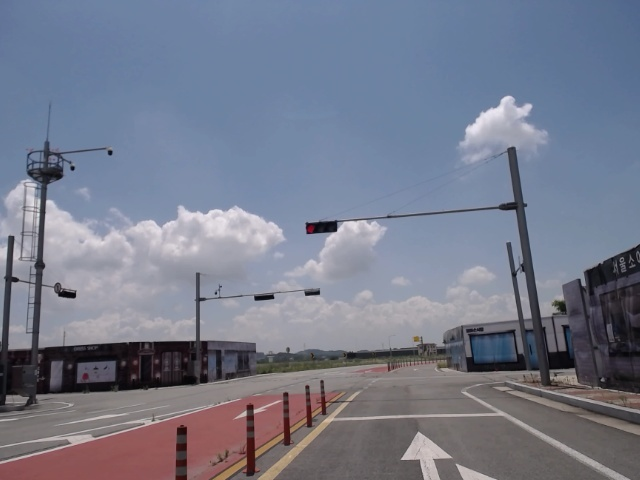red_3: (303, 218, 339, 234)
